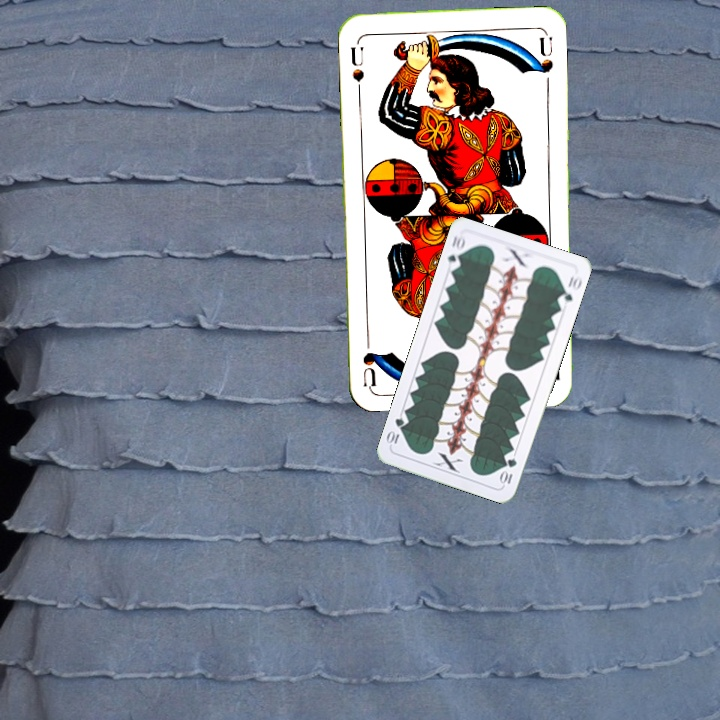G10: (443, 230, 468, 273), (496, 454, 519, 488)
SU: (346, 43, 367, 95)
